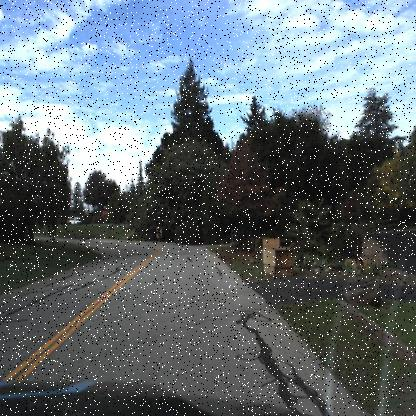car: (68, 215, 86, 229)
